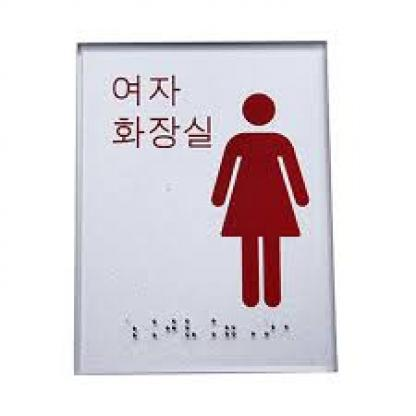toilet: (219, 82, 311, 308)
